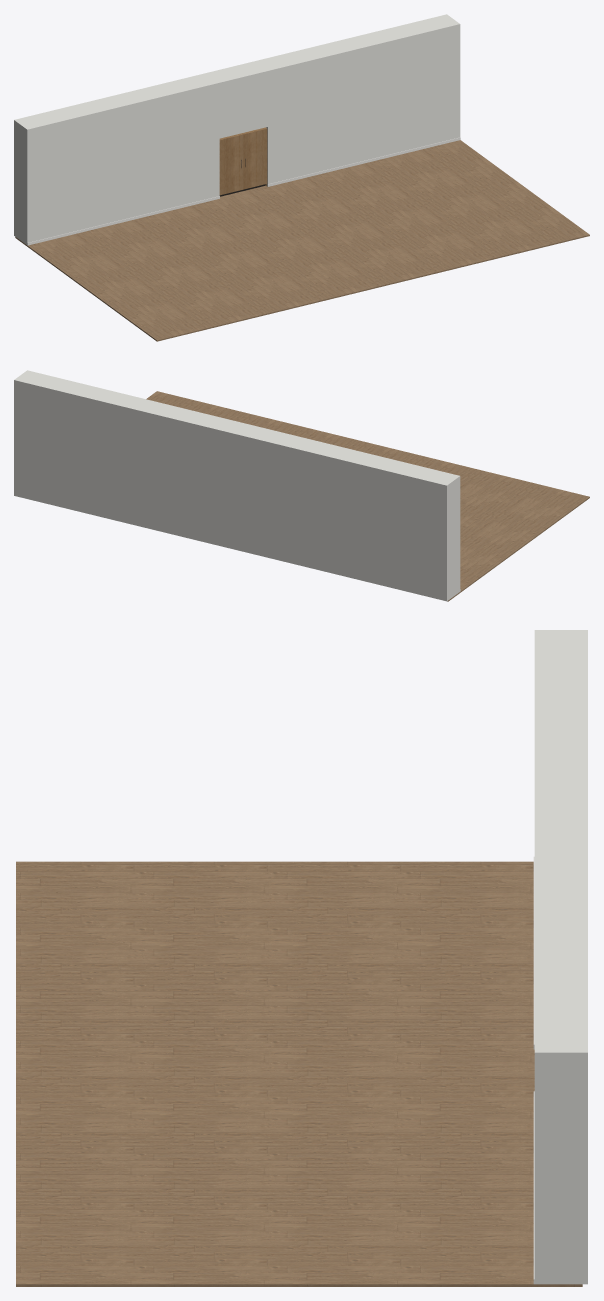
Rendered from hero.glb.
The picture shows the model from 3 angles, top to bottom: view 1: azimuth 30°, elevation 25°; view 2: azimuth 150°, elevation 25°; view 3: azimuth 270°, elevation 25°; orthographic projection. The views are drawn at different scales.
Parts seen in each view (by area): view 1: room_floor, wall_l, wall_r, wall_soffit, door1, door0, skirt_l, skirt_r; view 2: wall_l, wall_r, room_floor, wall_soffit, wall_back; view 3: room_floor, wall_r, wall_l, wall_soffit.
Boxes of the visible parts, x1,y1,x2,y2 form: room_floor: [15, 140, 589, 341]; wall_l: [14, 73, 219, 244]; wall_r: [255, 14, 460, 186]; wall_soffit: [207, 61, 267, 138]; door1: [243, 128, 267, 189]; door0: [219, 134, 243, 195]; skirt_l: [27, 196, 219, 245]; skirt_r: [268, 137, 460, 186]; wall_l: [254, 429, 460, 601]; wall_r: [14, 370, 219, 542]; room_floor: [146, 391, 589, 601]; wall_soffit: [206, 417, 267, 494]; wall_back: [206, 483, 254, 554]; room_floor: [16, 861, 582, 1286]; wall_r: [534, 865, 587, 1284]; wall_l: [534, 630, 587, 817]; wall_soffit: [534, 818, 587, 864].
Bounding box in the file's own units: 18 × 4.65 × 10.3.
8 materials, 3 textured.
